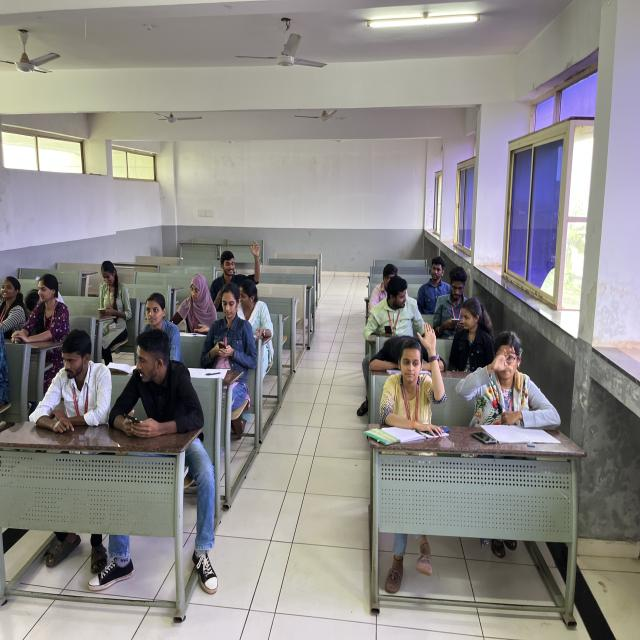Sleeping: (359, 326, 424, 375), (25, 279, 69, 314)
Using Phone: (116, 326, 205, 475), (388, 317, 444, 418), (190, 284, 251, 370), (84, 247, 140, 336), (365, 274, 434, 344), (198, 226, 266, 286), (433, 260, 477, 331)
